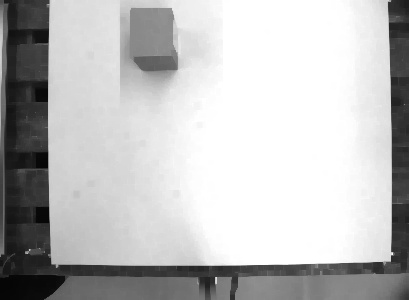b5: (127, 4, 182, 73)
